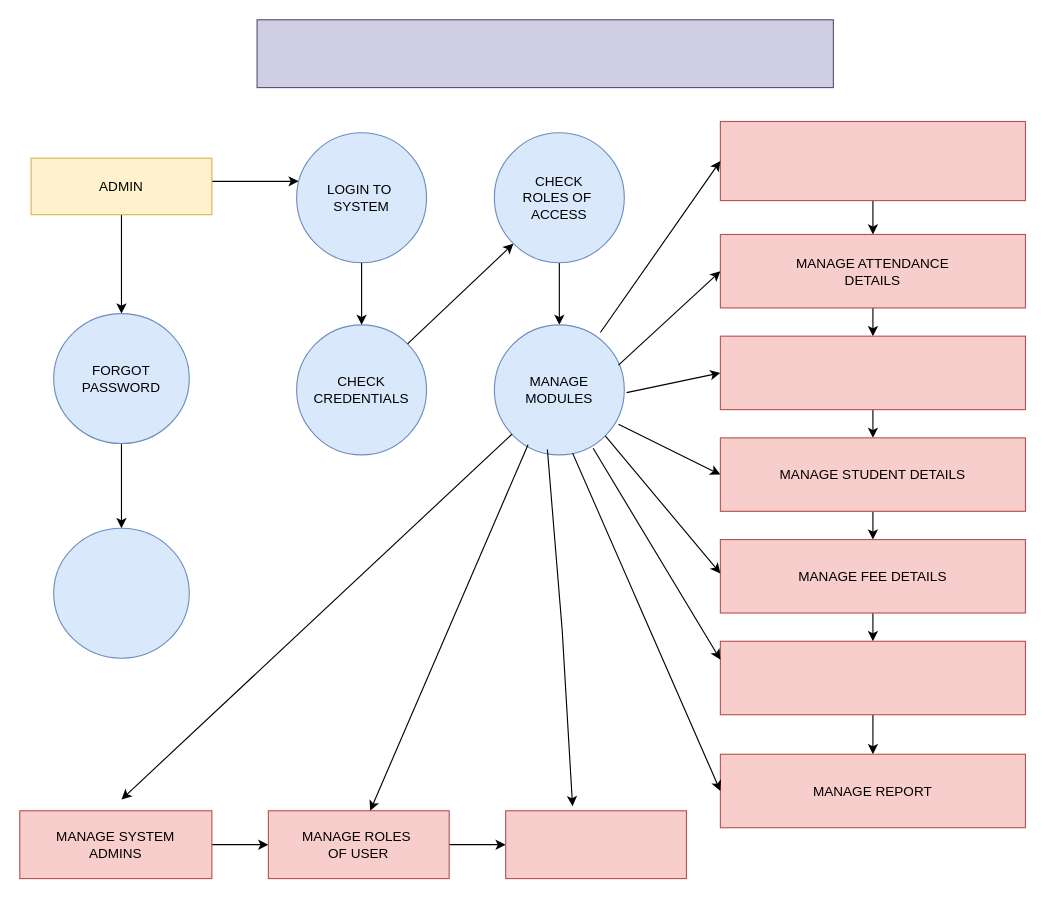
Image size: 1045x898. Some labels were removed from this diagram. The centre of each missing label's shape, as x and y in pixels:
MANAGE CLASS DETAILS: pixel 872 372
MANAGE TEACHER PROFILES: pixel 872 677
MANAGE TIMETABLE DETAILS: pixel 872 160
MANAGES USER PERMISSION: pixel 595 844
SEND EMAIL TO USER: pixel 121 592
STUDENT INFORMATION SYSTEM: pixel 544 53
